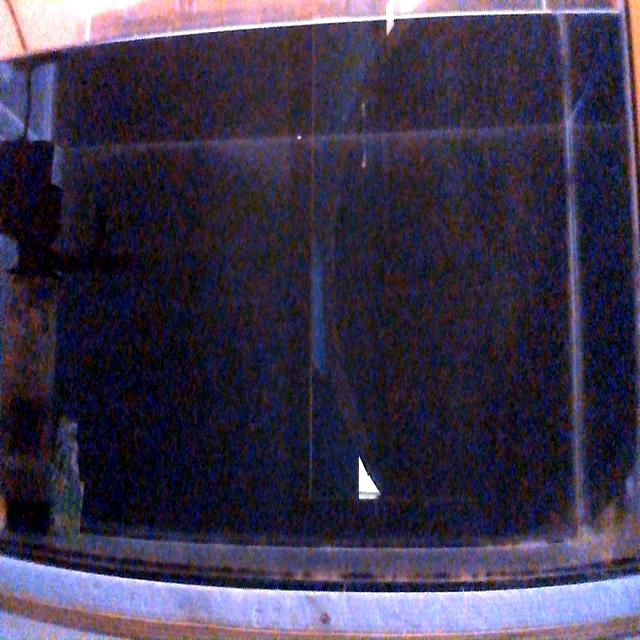fish: (0, 491, 7, 530)
